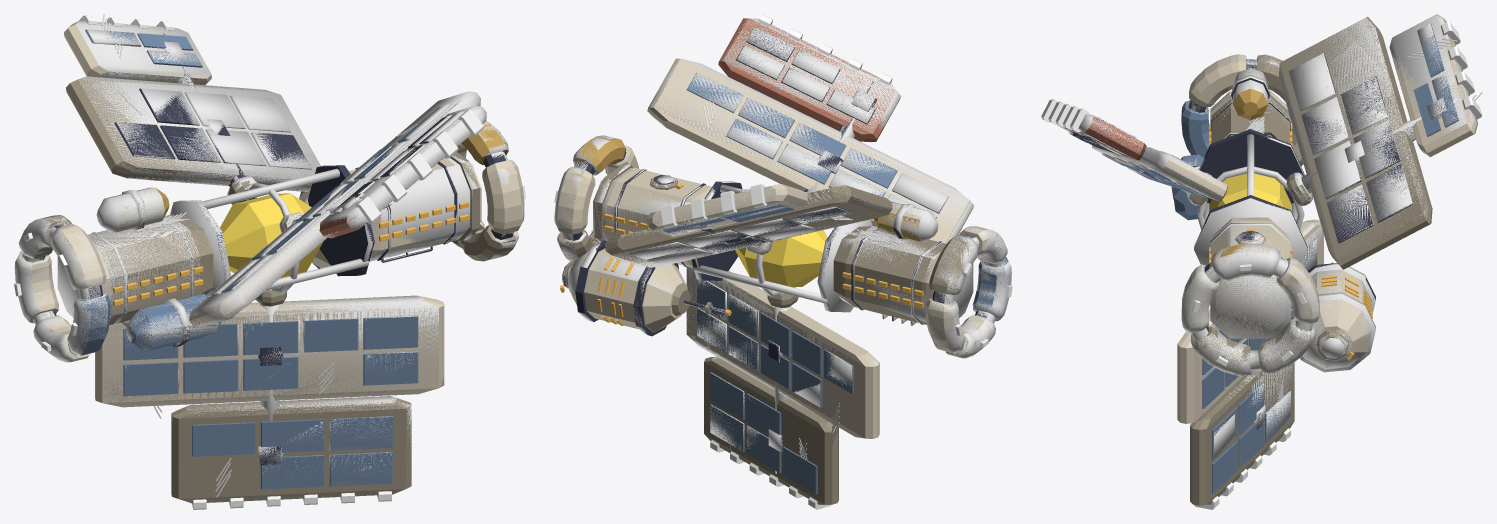
File: gate4-mod-station.fbx
The picture shows the model from 3 angles, left to right: view 1: azimuth 30°, elevation 25°; view 2: azimuth 150°, elevation 25°; view 3: azimuth 270°, elevation 25°; orthographic projection. The views are drawn at different scales.
Visible parts, largest first — view 1: Sail 1 panels / blue / fine, Sail 1 panels / bone, Sail 1 panels / canvas, Sail 2 panels / contour, Sail 1 panels / contour, Sail 2 panels / contour fine, Sail 3 panels / contour, Docking collar aft / contour, Spine aft / canvas, Sail 2 panels / canvas, Spine aft / contour, Sail 2 panels / slate / fine (+29 smaller); view 2: Sail 3 panels / contour, Sail 1 panels / blue / fine, Sail 3 panels / contour fine, Sail 3 panels / bone, Sail 1 panels / bone, Sail 1 panels / canvas, Docking collar aft / contour, Spine aft / canvas, Sail 3 panels / brick, Sail 3 panels / blue / fine, Sail 2 panels / canvas, Crew pod / bone (+32 smaller); view 3: Sail 2 panels / contour fine, Sail 2 panels / canvas, Sail 2 panels / contour, Docking collar fore / contour, Sail 1 panels / canvas, Sail 1 panels / blue / fine, Sail 2 panels / slate / fine, Spine fore / contour, Spine fore / contour fine, Spine fore / bone, Crew pod / contour, Spine aft / slate / fine (+30 smaller).
Part boxes in pixels (<box>): Sail 1 panels / blue / fine: <box>123,316,418,489</box>; Sail 1 panels / bone: <box>95,296,444,407</box>; Sail 1 panels / canvas: <box>171,396,411,503</box>; Sail 2 panels / contour: <box>76,21,320,191</box>; Sail 1 panels / contour: <box>102,295,444,503</box>; Sail 2 panels / contour fine: <box>87,29,311,169</box>; Sail 3 panels / contour: <box>189,91,486,326</box>; Docking collar aft / contour: <box>14,216,107,362</box>; Spine aft / canvas: <box>88,215,213,324</box>; Sail 2 panels / canvas: <box>66,77,320,191</box>; Spine aft / contour: <box>57,215,211,319</box>; Sail 2 panels / slate / fine: <box>114,42,307,166</box>; Sail 3 panels / contour: <box>648,18,973,243</box>; Sail 1 panels / blue / fine: <box>697,279,853,494</box>; Sail 3 panels / contour fine: <box>687,27,948,217</box>; Sail 3 panels / bone: <box>647,58,973,243</box>; Sail 1 panels / bone: <box>686,266,879,438</box>; Sail 1 panels / canvas: <box>704,356,838,504</box>; Docking collar aft / contour: <box>927,226,1011,358</box>; Spine aft / canvas: <box>833,226,973,324</box>; Sail 3 panels / brick: <box>718,18,896,142</box>; Sail 3 panels / blue / fine: <box>687,73,948,218</box>; Sail 2 panels / canvas: <box>605,185,892,264</box>; Crew pod / bone: <box>571,248,687,332</box>; Sail 2 panels / contour fine: <box>1289,23,1458,242</box>; Sail 2 panels / canvas: <box>1279,17,1432,269</box>; Sail 2 panels / contour: <box>1278,15,1477,262</box>; Docking collar fore / contour: <box>1181,243,1319,376</box>; Sail 1 panels / canvas: <box>1190,362,1294,505</box>; Sail 1 panels / blue / fine: <box>1202,238,1317,493</box>; Sail 2 panels / slate / fine: <box>1297,53,1446,243</box>; Spine fore / contour: <box>1215,217,1289,335</box>; Spine fore / contour fine: <box>1194,198,1307,338</box>; Spine fore / bone: <box>1211,217,1289,335</box>; Crew pod / contour: <box>1291,263,1375,372</box>; Spine aft / slate / fine: <box>1200,102,1304,203</box>.
Bounding box in the file's own units: 29 × 26.46 × 26.05.
